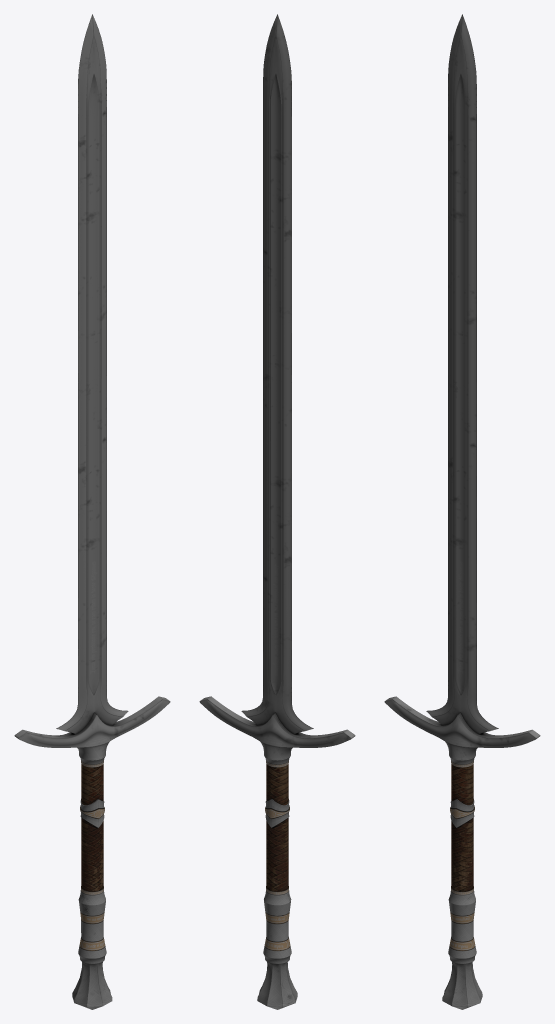
Rendered from player-sword.glb.
3 views of the same model, side by side, from view 1: azimuth 30°, elevation 25°; view 2: azimuth 150°, elevation 25°; view 3: azimuth 330°, elevation 25° (orthographic).
Parts seen in each view (by area): view 1: Blade_Plane.040, Guards_Plane.041, Wrap_ND_—_Geo_Lift.024, PommelFirst_Circle.004, Pommel_Circle.003, GuardsEnd_ND_—_Geo_Lift.069, Ring_ND_—_Recon_Poly.042; view 2: Blade_Plane.040, Guards_Plane.041, Wrap_ND_—_Geo_Lift.024, PommelFirst_Circle.004, Pommel_Circle.003, GuardsEnd_ND_—_Geo_Lift.069, Ring_ND_—_Recon_Poly.042; view 3: Blade_Plane.040, Guards_Plane.041, Wrap_ND_—_Geo_Lift.024, PommelFirst_Circle.004, Pommel_Circle.003, GuardsEnd_ND_—_Geo_Lift.069, Ring_ND_—_Recon_Poly.042.
Part boxes in pixels (box(x1,y1,x2,y2)): Blade_Plane.040: box(56, 14, 128, 734); Guards_Plane.041: box(14, 696, 170, 747); Wrap_ND_—_Geo_Lift.024: box(81, 764, 103, 891); PommelFirst_Circle.004: box(78, 886, 106, 963); Pommel_Circle.003: box(72, 962, 112, 1009); GuardsEnd_ND_—_Geo_Lift.069: box(77, 742, 109, 767); Ring_ND_—_Recon_Poly.042: box(80, 799, 104, 827); Blade_Plane.040: box(241, 14, 313, 734); Guards_Plane.041: box(199, 696, 355, 747); Wrap_ND_—_Geo_Lift.024: box(266, 764, 288, 891); PommelFirst_Circle.004: box(263, 886, 291, 963); Pommel_Circle.003: box(257, 962, 297, 1009); GuardsEnd_ND_—_Geo_Lift.069: box(260, 741, 292, 767); Ring_ND_—_Recon_Poly.042: box(265, 799, 289, 827); Blade_Plane.040: box(426, 14, 498, 734); Guards_Plane.041: box(384, 696, 540, 747); Wrap_ND_—_Geo_Lift.024: box(451, 764, 473, 891); PommelFirst_Circle.004: box(448, 886, 476, 963); Pommel_Circle.003: box(442, 962, 482, 1009); GuardsEnd_ND_—_Geo_Lift.069: box(445, 742, 477, 767); Ring_ND_—_Recon_Poly.042: box(450, 799, 474, 827).
Bounding box in the file's own units: 0.2879 × 1.8 × 0.0683.
Materials: 1 (1 with a texture image).
